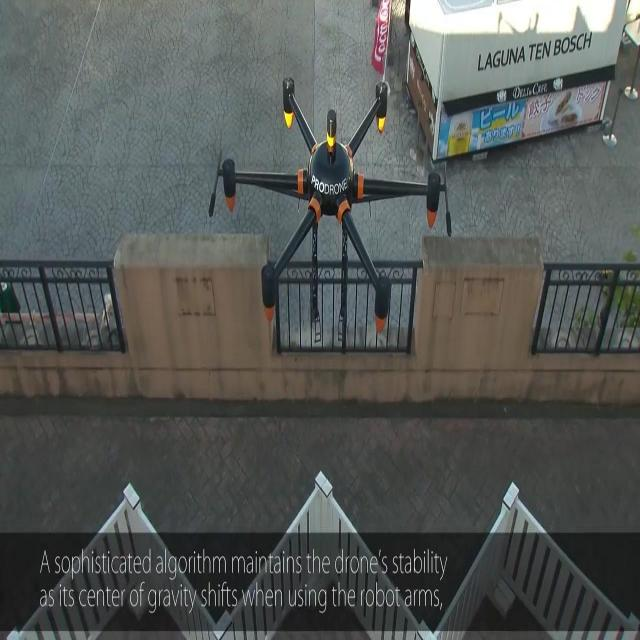UAV: (209, 76, 453, 336)
